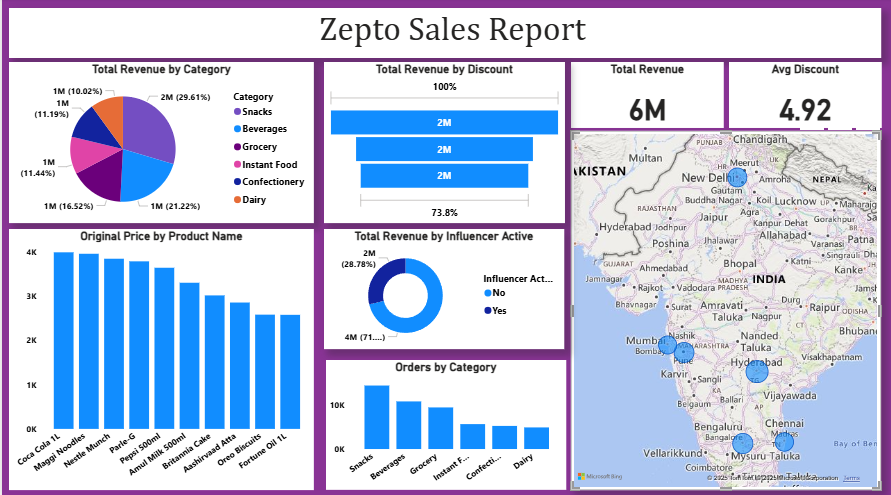

What the dashboard file says about the page in this screenshot:
{"tool":"powerbi","page":{"name":"Page 1","canvas":[1280,720],"ordinal":0},"visuals":[{"type":"textbox","box":[10.1,15.1,1256.5,72.2],"z":0},{"type":"map","fields":{"Category":["zepto_sales_dataset.City"],"Size":["Sum(zepto_sales_dataset.Total Revenue)"]},"box":[819.4,191.5,446.4,517],"z":1},{"type":"pieChart","title":"Total Revenue by Category","fields":{"Category":["zepto_sales_dataset.Category"],"Y":["Sum(zepto_sales_dataset.Total Revenue)"]},"box":[10.1,92.2,439.2,231.8],"z":2},{"type":"cardVisual","title":"Avg Discount","fields":{"Data":["Avg(zepto_sales_dataset.Discount)"]},"box":[1046.9,92.2,220.3,95],"z":3},{"type":"cardVisual","title":"Total Revenue","fields":{"Data":["Sum(zepto_sales_dataset.Total Revenue)"]},"box":[819.4,92.2,220.3,95],"z":4},{"type":"funnel","title":"Total Revenue by Discount","fields":{"Category":["zepto_sales_dataset.Discount"],"Y":["Sum(zepto_sales_dataset.Total Revenue)"]},"box":[463.7,92.2,347,231.8],"z":5},{"type":"donutChart","title":"Total Revenue by Influencer Active","fields":{"Category":["zepto_sales_dataset.Influencer Active"],"Y":["Sum(zepto_sales_dataset.Total Revenue)"]},"box":[463.7,332.6,345.6,172.8],"z":6},{"type":"clusteredColumnChart","title":"Original Price by Product Name","fields":{"Y":["Sum(zepto_sales_dataset.Original Price)"],"Category":["zepto_sales_dataset.Product Name"]},"box":[10.1,332.6,439.2,375.8],"z":7},{"type":"clusteredColumnChart","title":"Orders by Category","fields":{"Y":["Sum(zepto_sales_dataset.Orders)"],"Category":["zepto_sales_dataset.Category"]},"box":[466.6,521.3,345.6,187.2],"z":8}]}

Visuals, with their boxes in screenshot pixels (x1, y1, x2, y2), scaled from the page's 1280x720 canvas onto the 891x495 screenshot:
textbox: [x1=7, y1=10, x2=882, y2=60]
map - zepto_sales_dataset.City x Sum(zepto_sales_dataset.Total Revenue): [x1=570, y1=132, x2=881, y2=487]
"Total Revenue by Category" pieChart: [x1=7, y1=63, x2=313, y2=223]
"Avg Discount" cardVisual: [x1=729, y1=63, x2=882, y2=129]
"Total Revenue" cardVisual: [x1=570, y1=63, x2=724, y2=129]
"Total Revenue by Discount" funnel: [x1=323, y1=63, x2=564, y2=223]
"Total Revenue by Influencer Active" donutChart: [x1=323, y1=229, x2=563, y2=347]
"Original Price by Product Name" clusteredColumnChart: [x1=7, y1=229, x2=313, y2=487]
"Orders by Category" clusteredColumnChart: [x1=325, y1=358, x2=565, y2=487]
